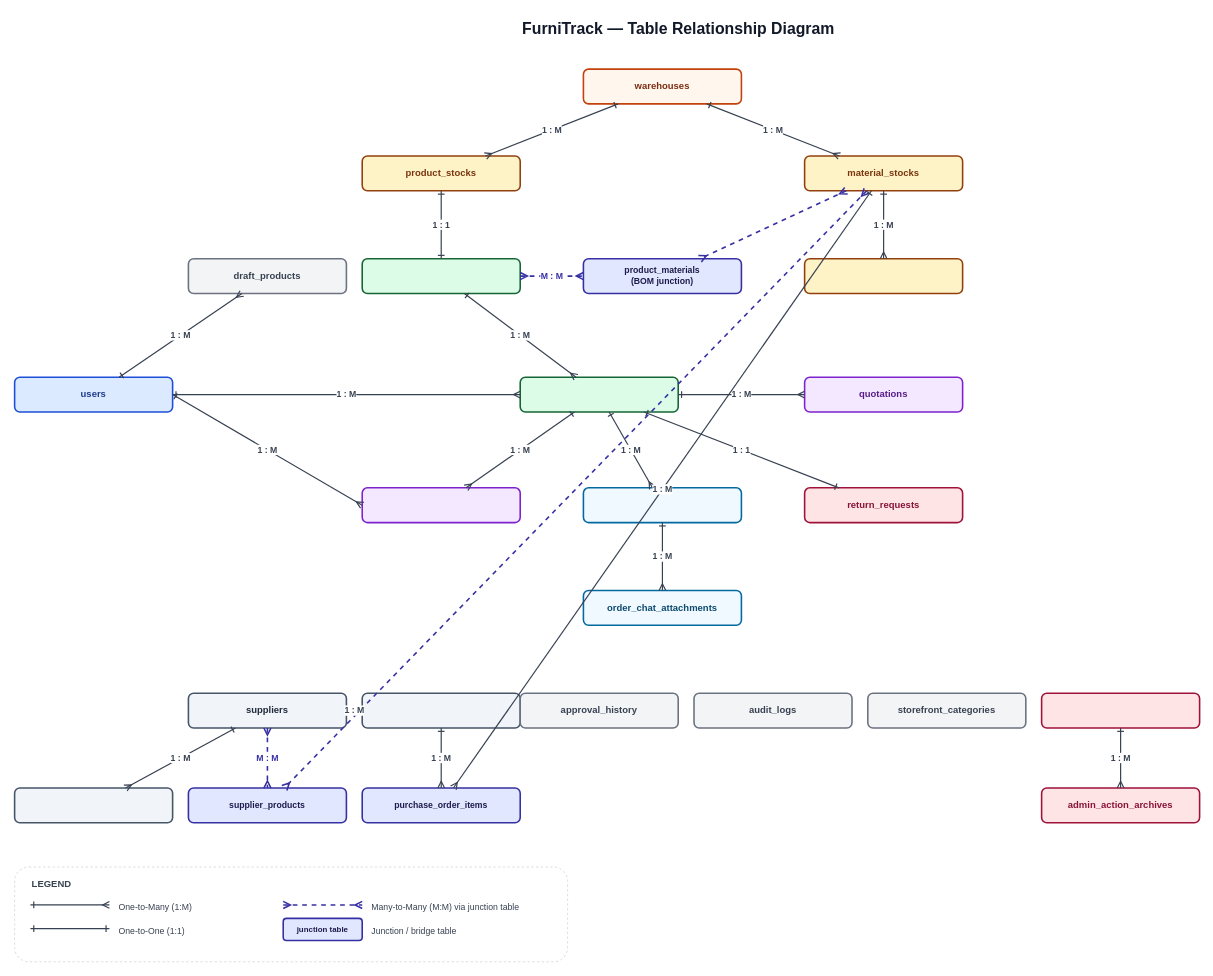
Image size: 1213x976. Some labels were removed from this diagram. The centre of each missing label's shape, as x and y in pixels:
admin_account_archives: the point at 1120,710
customer_inquiries: the point at 599,394
order_chat_messages: the point at 662,505
payment_records: the point at 441,505
products: the point at 441,276
purchase_orders: the point at 441,710
stock_movements: the point at 883,276
supplier_addresses: the point at 93,805
